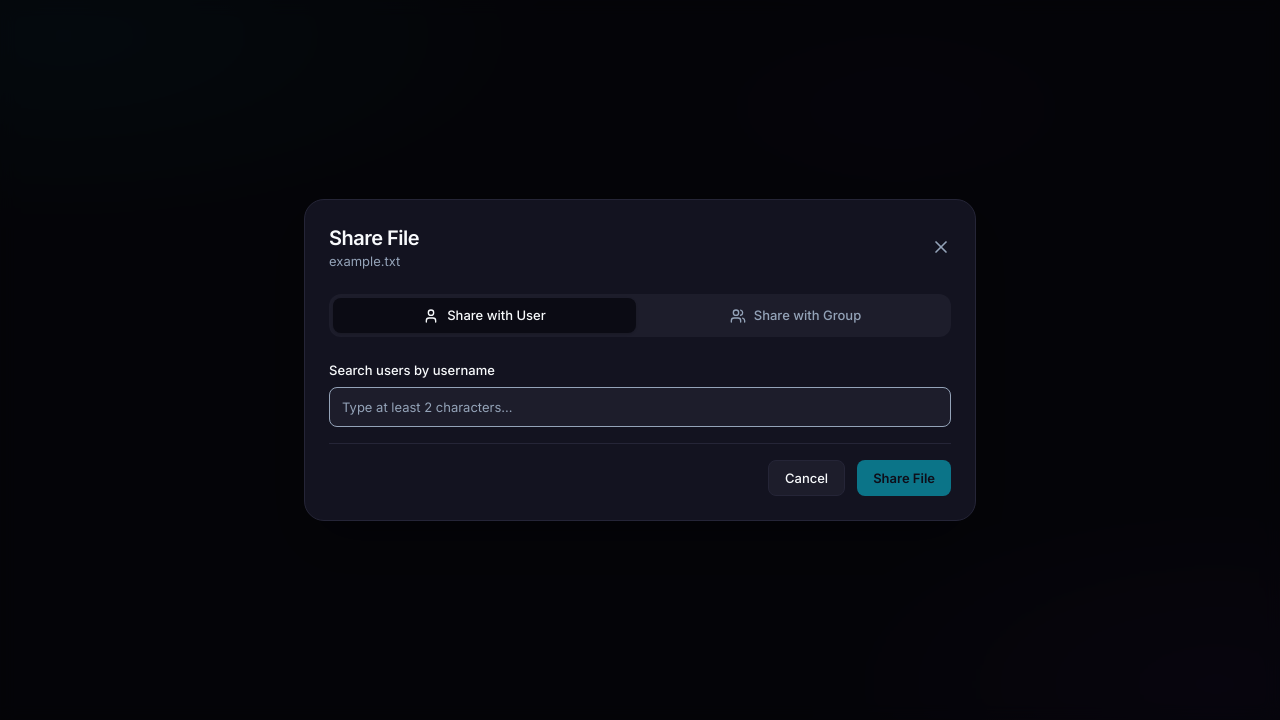
Test: direct sharing uses the real lookup and verifies file access › accepts the server's single recipient object and blocks grants when decryption fails
This screenshot has width=1280, height=720.
In the field labelled "Search users by username": {"x": 640, "y": 407} [329,387,951,427], type "ada"
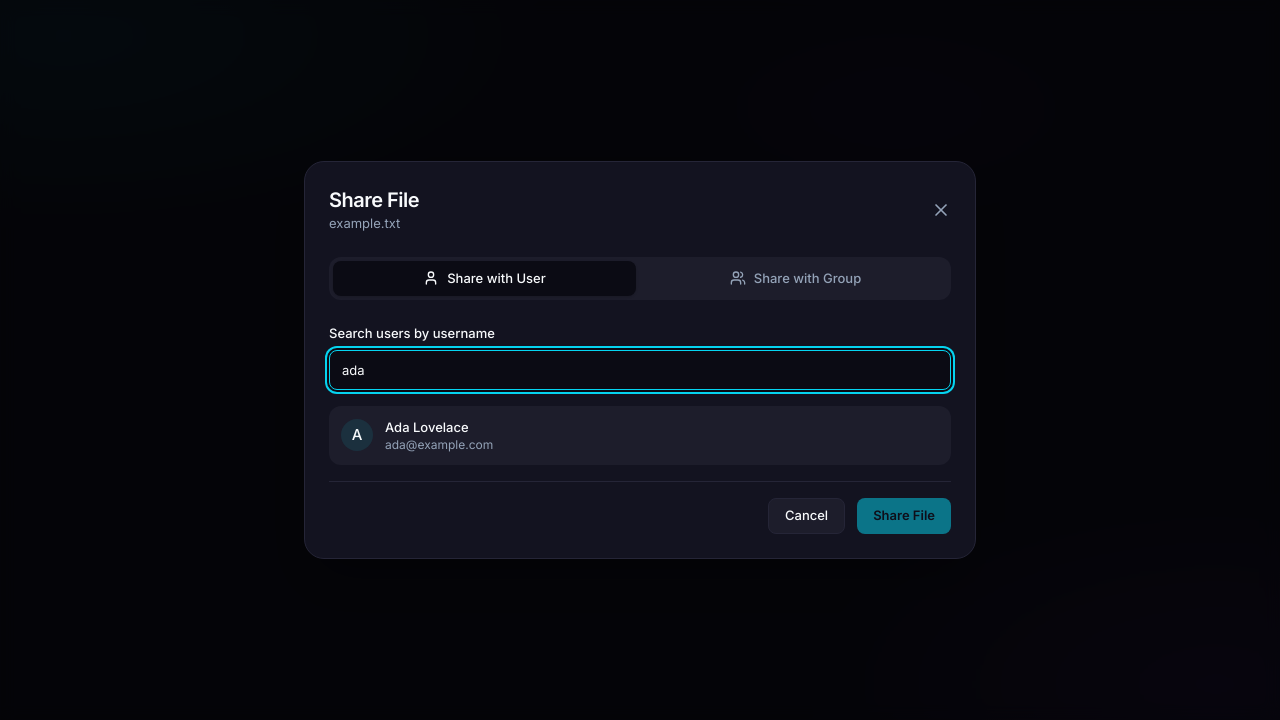
Click the button "A Ada Lovelace ada@example.com": {"x": 357, "y": 435} [329,406,951,465]
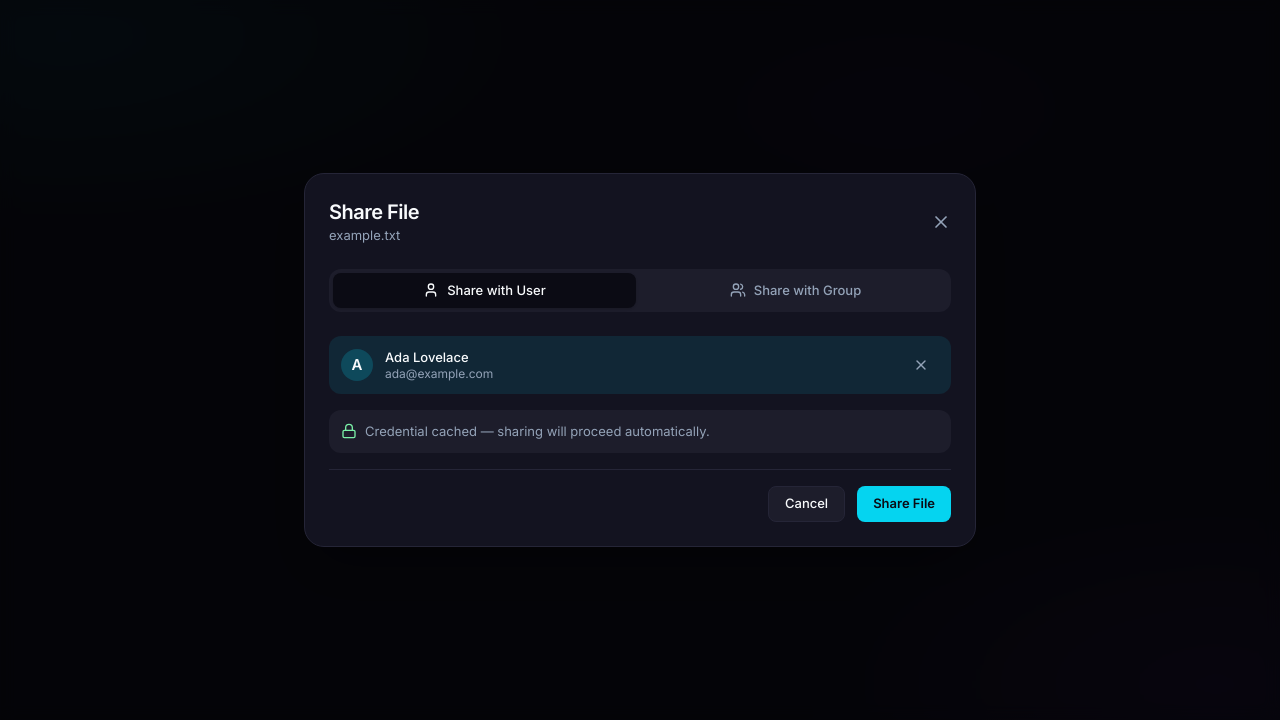
Click the button "Share File": {"x": 904, "y": 504} [857,486,951,522]
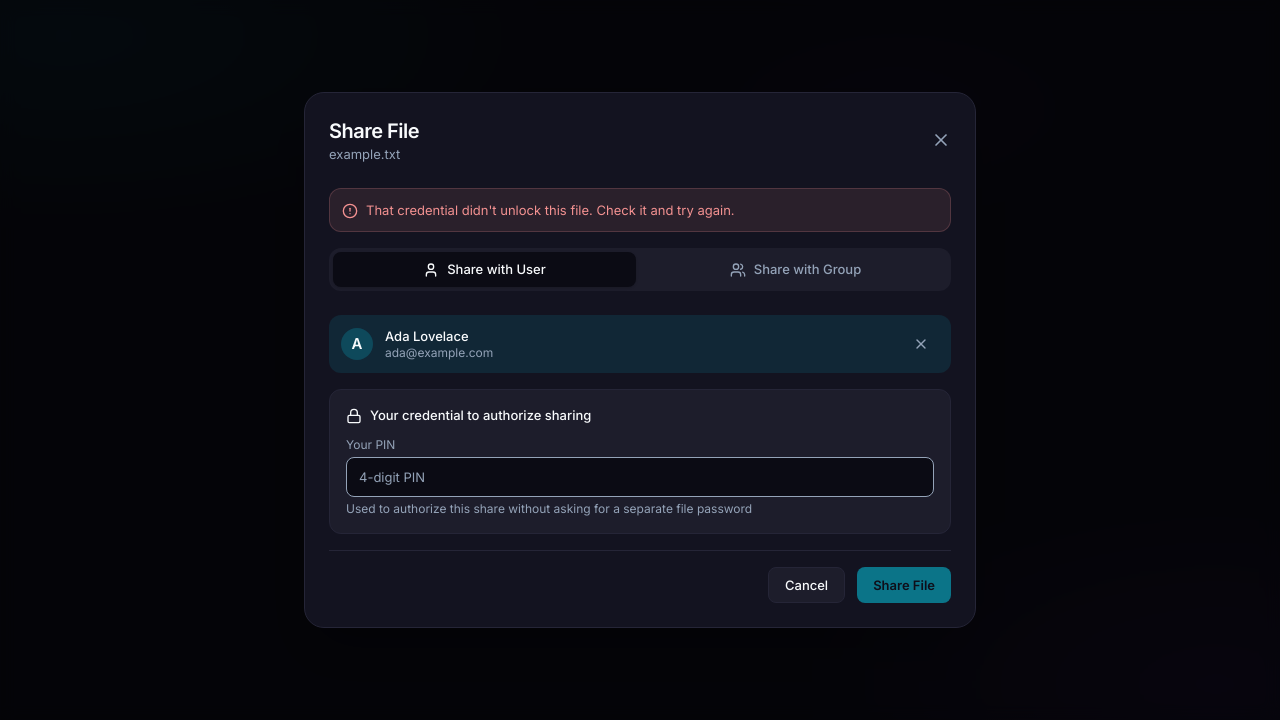
Check: the text "That credential didn't unlock this file. Check it and try again." is shown, box [366,201,735,219]
Check: the password field labelled "Your PIN" is shown, box [346,457,934,497]
Check: the text "Credential cached" is gone
